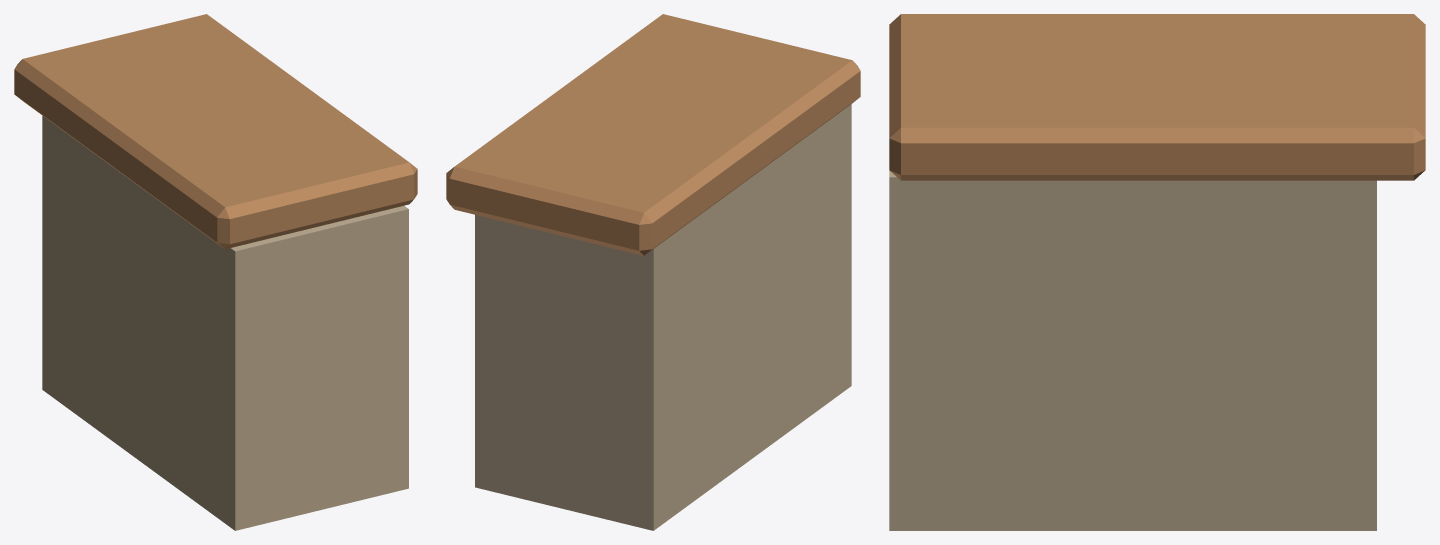
Rendered from perch_seat.glb.
3 views of the same model, side by side, from view 1: azimuth 30°, elevation 25°; view 2: azimuth 150°, elevation 25°; view 3: azimuth 270°, elevation 25° (orthographic). The views are drawn at different scales.
Visible parts, largest first — view 1: body; view 2: body; view 3: body.
Part boxes in pixels (left/top/right/bottom): body: left=14, top=14, right=417, bottom=530; body: left=446, top=14, right=860, bottom=530; body: left=889, top=14, right=1425, bottom=530.
Bounding box in the file's own units: 0.3 × 0.46 × 0.55.
